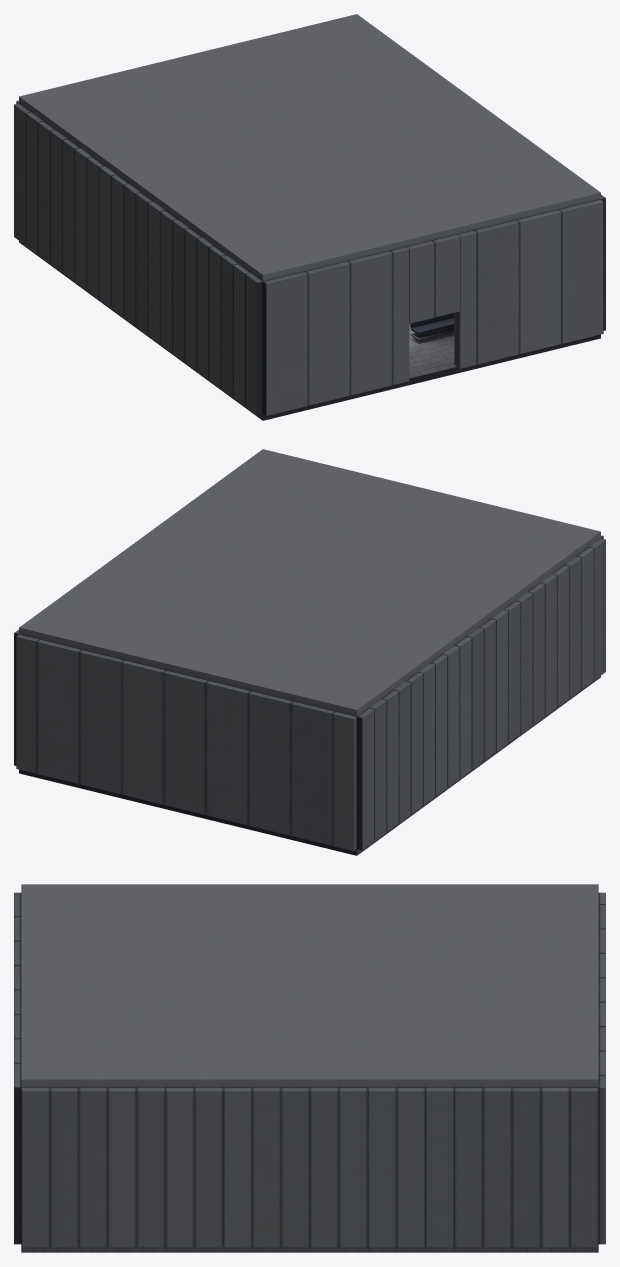
The model's file is timevault.glb.
The picture shows the model from 3 angles, top to bottom: view 1: azimuth 30°, elevation 25°; view 2: azimuth 150°, elevation 25°; view 3: azimuth 270°, elevation 25°; orthographic projection. The views are drawn at different scales.
Visible parts, largest first — view 1: Shell, Furniture; view 2: Shell; view 3: Shell.
Boxes of the visible parts, x1,y1,x2,y2 form: Shell: (14,14,605,420); Furniture: (410,313,454,340); Shell: (14,449,605,855); Shell: (14,884,605,1252).
Bounding box in the file's own units: 16.5 × 6.6 × 20.5.
Materials: 3 (2 with a texture image).
